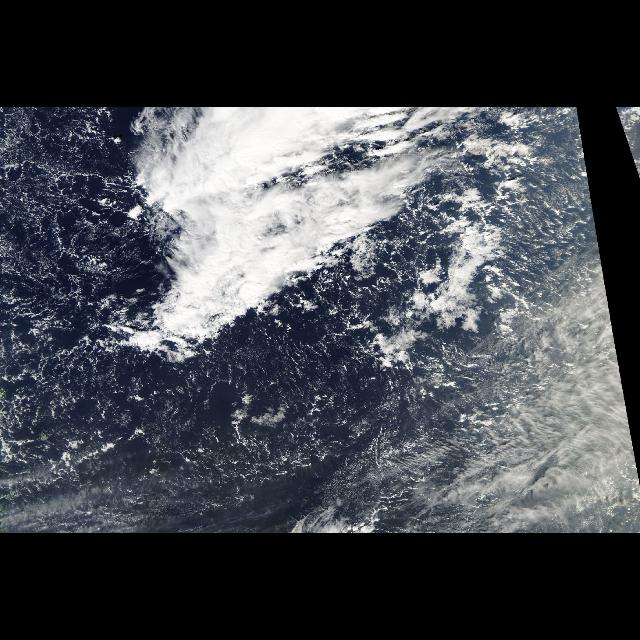Gravel: (1, 107, 446, 529)
Sugar: (481, 134, 614, 372), (8, 113, 92, 457)
